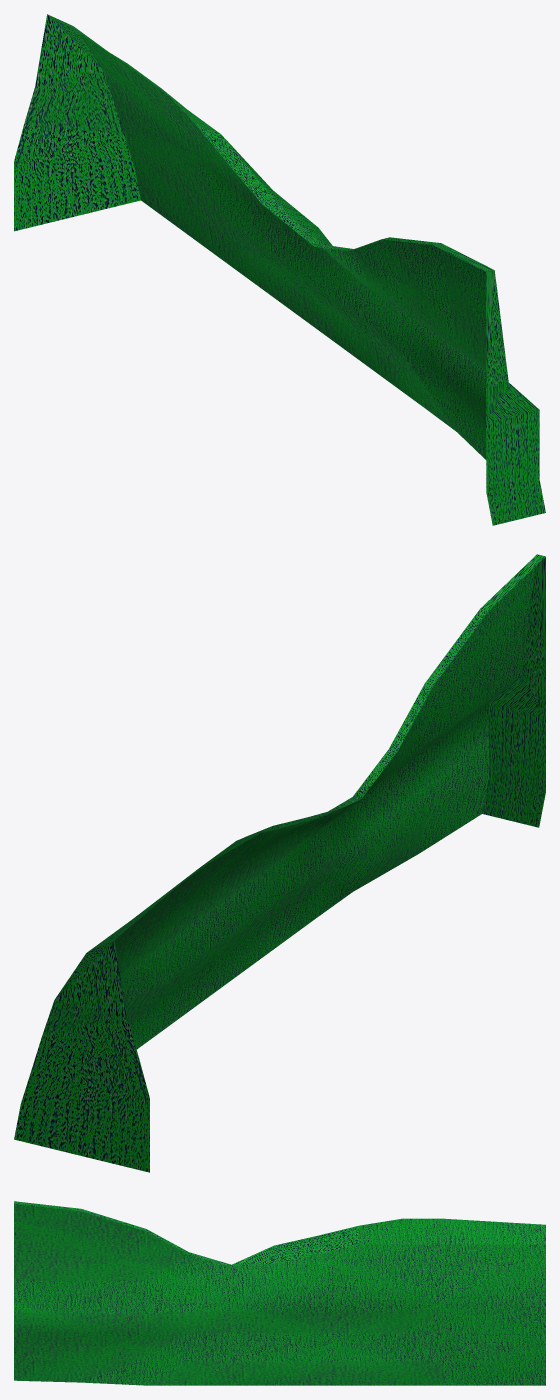
The model's file is yama.fbx.
3 views of the same model, one above another, from view 1: azimuth 30°, elevation 25°; view 2: azimuth 150°, elevation 25°; view 3: azimuth 270°, elevation 25° (orthographic). The views are drawn at different scales.
Parts seen in each view (by area): view 1: pCube257; view 2: pCube257; view 3: pCube257.
Boxes of the visible parts, x1,y1,x2,y2 form: pCube257: (14,14,545,525); pCube257: (14,554,545,1172); pCube257: (14,1201,545,1385).
Bounding box in the file's own units: 1523 × 2925 × 8751.
1 material, 1 textured.
